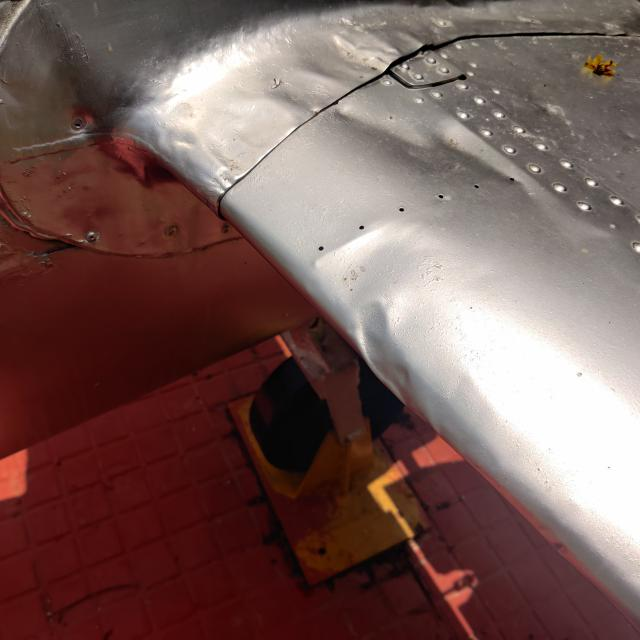dent: (324, 94, 534, 203), (343, 286, 432, 416)
